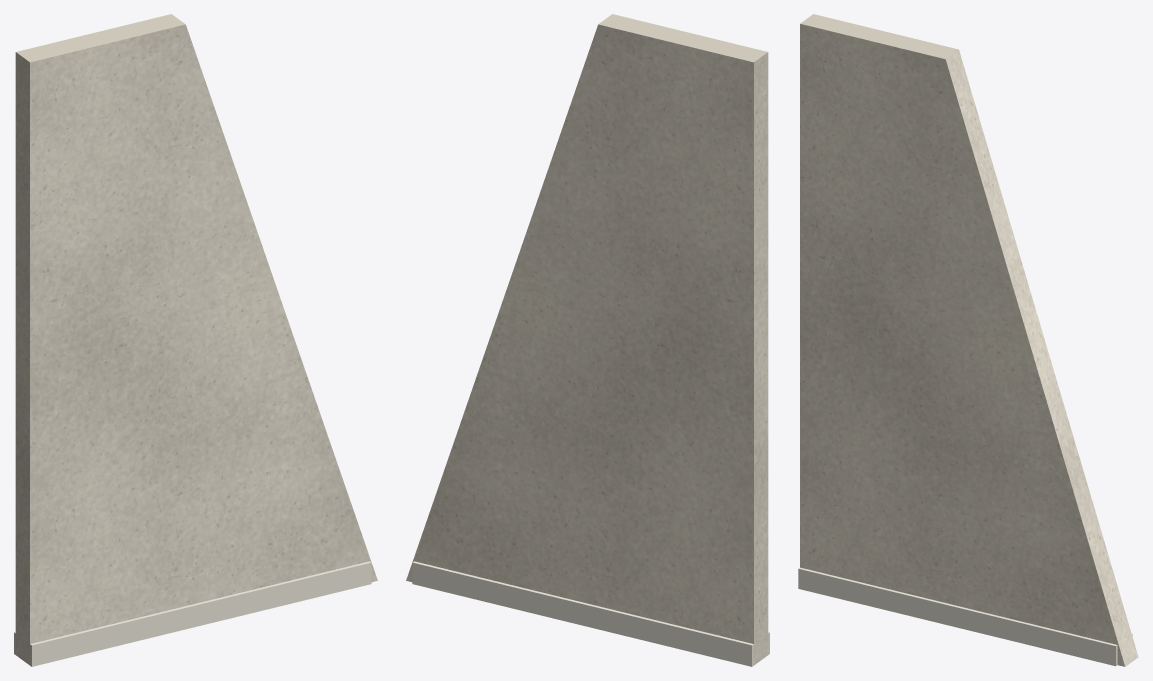
Rendered from interior_wall_end_attic.glb.
3 renders of one model, left to right at view 1: azimuth 30°, elevation 25°; view 2: azimuth 150°, elevation 25°; view 3: azimuth 330°, elevation 25°, orthographic. The views are drawn at different scales.
Parts seen in each view (by area): view 1: interior_wall_end_attic_plaster, interior_wall_end_attic_trim; view 2: interior_wall_end_attic_plaster, interior_wall_end_attic_trim; view 3: interior_wall_end_attic_plaster, interior_wall_end_attic_trim.
Boxes of the visible parts, x1,y1,x2,y2 form: interior_wall_end_attic_plaster: (15,14,377,665); interior_wall_end_attic_trim: (14,561,371,666); interior_wall_end_attic_plaster: (406,14,768,665); interior_wall_end_attic_trim: (412,561,769,666); interior_wall_end_attic_plaster: (800,14,1138,666); interior_wall_end_attic_trim: (798,567,1132,666).
Size of the model in its own units: 1.69 by 2.8 by 0.15.
Materials: 2 (1 with a texture image).
